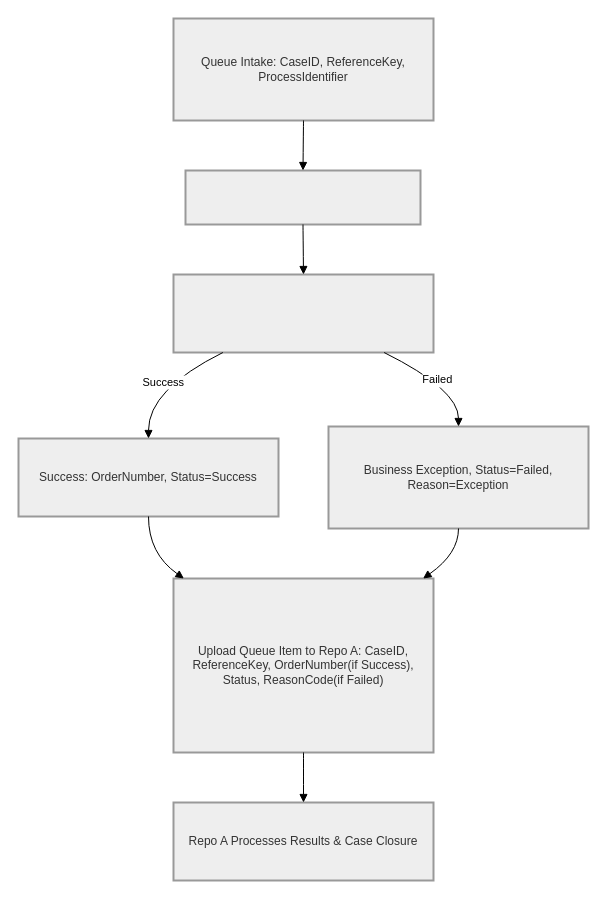
This 606x898 diagram has some shape labels left out. The centre of each missing label's shape, as x and y in pixels:
"Oracle Order Submission" belongs at (302,197).
"Set Transaction Status XAML" belongs at (303,313).
